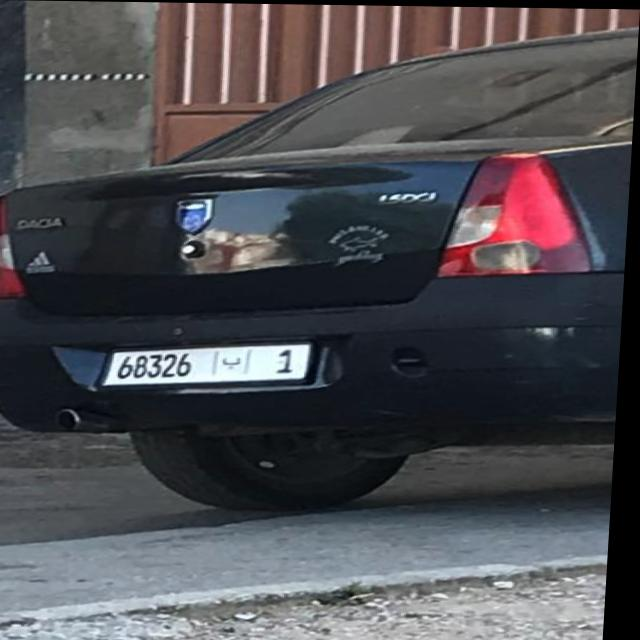License-Plate: (107, 343, 315, 385)
